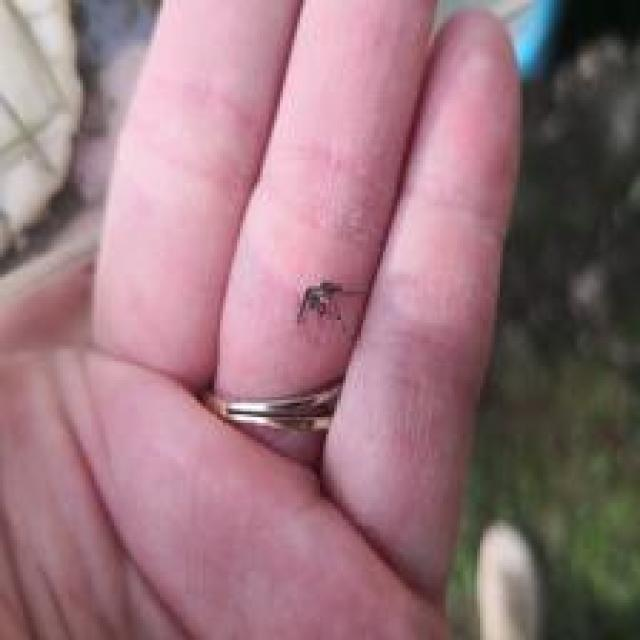Aedes albopictus: (294, 279, 369, 324)
